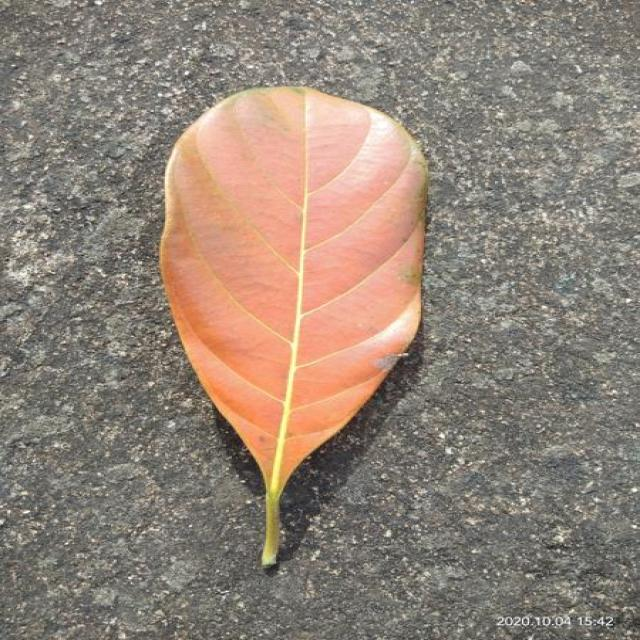Jackfruit: (160, 86, 427, 566)
dieback: (160, 86, 427, 566)
